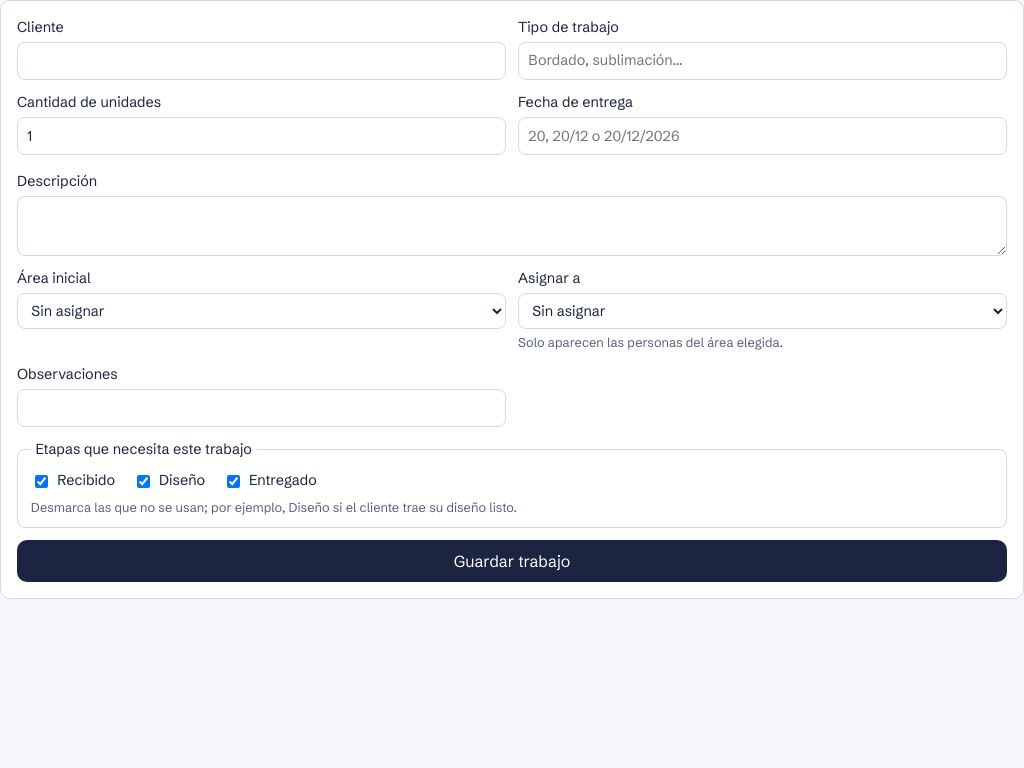
it: NuevoTrabajo › rechaza una fecha de entrega no válida sin llamar al servidor
The image size is (1024, 768).
Type "Colegio" into the field labelled "Cliente" at point(262, 61), box [17, 42, 506, 80]
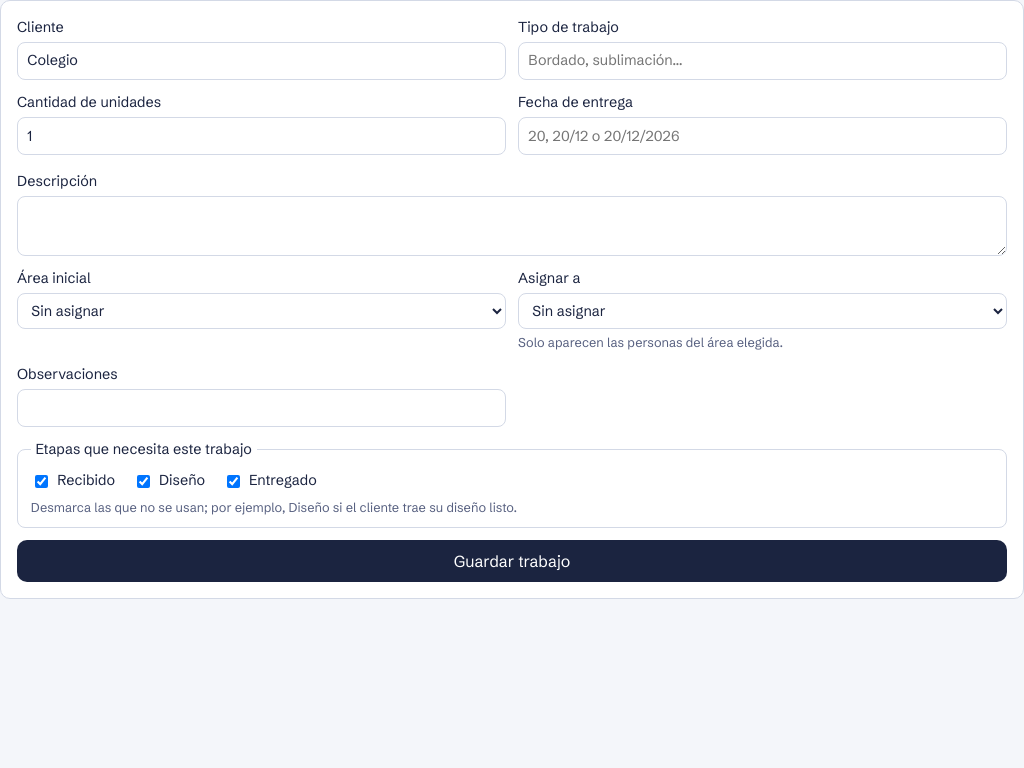
Type "Bordado" into the field labelled "Tipo de trabajo" at point(762, 61), box [518, 42, 1007, 80]
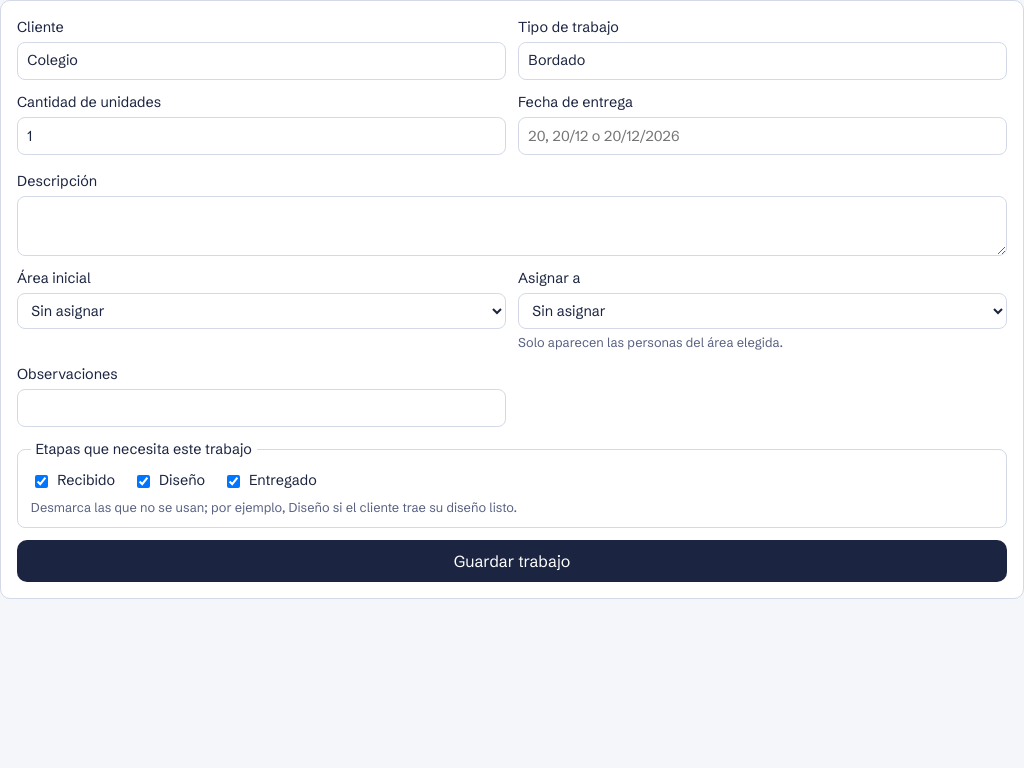
Type "60 buzos" into the text box labelled "Descripción" at point(512, 226), box [17, 196, 1007, 256]
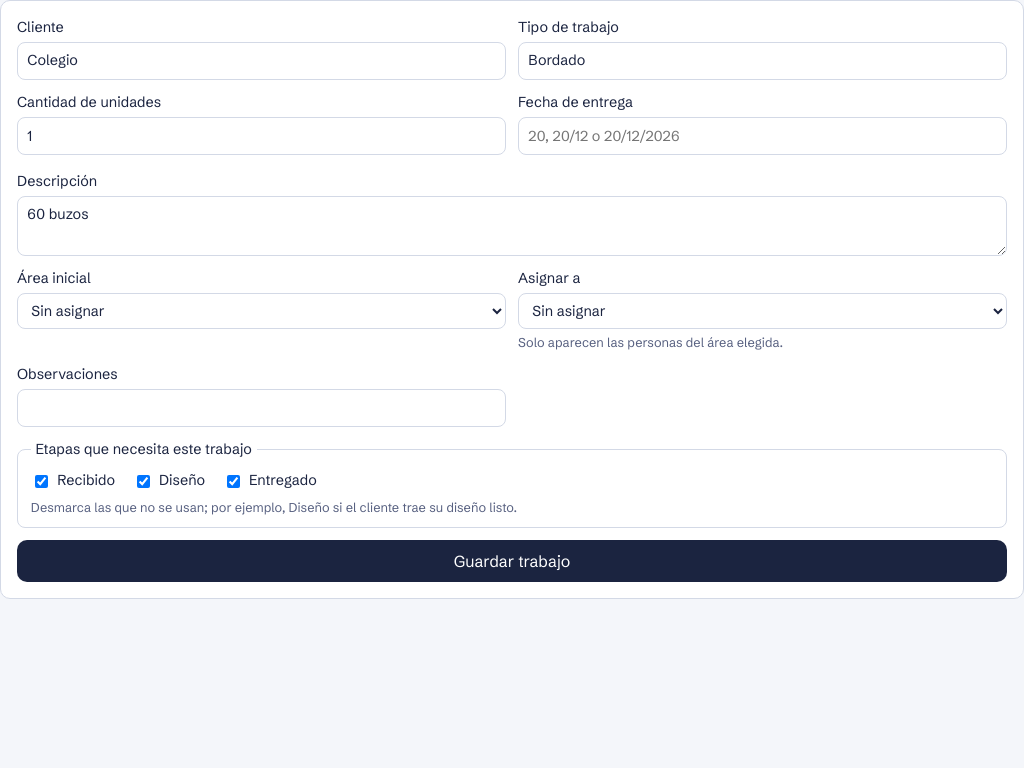
Type "99/99" into the field labelled "Fecha de entrega" at point(762, 136), box [518, 117, 1007, 155]
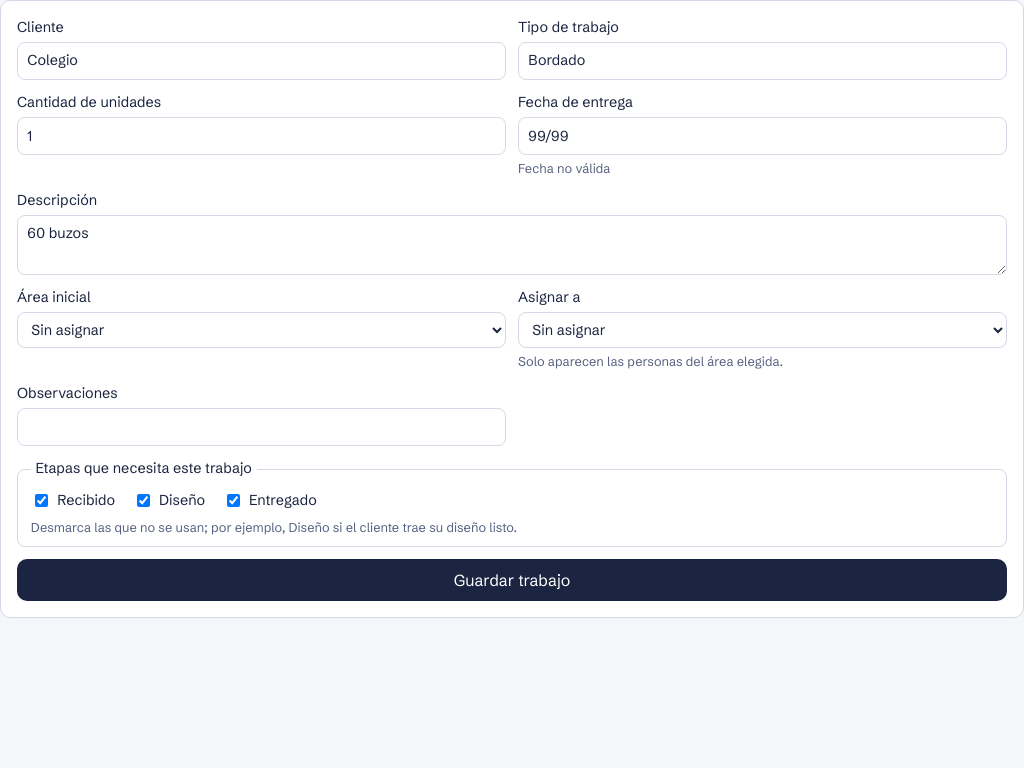
Click the button "Guardar trabajo" at point(512, 580), box [17, 559, 1007, 601]
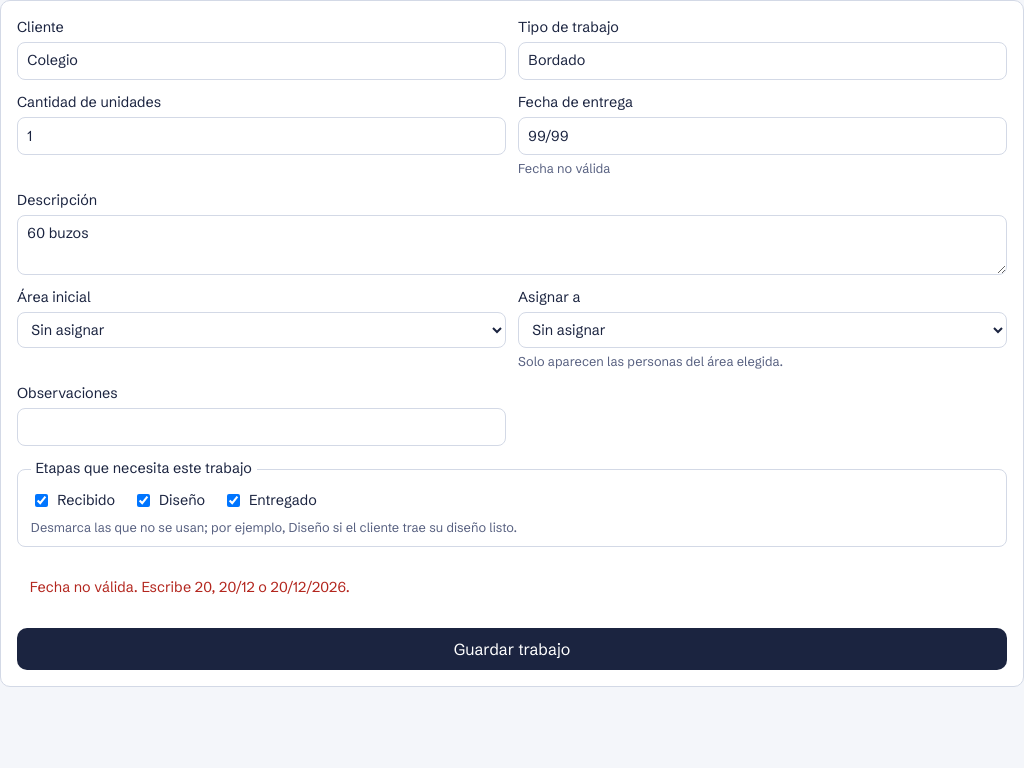
Expected: the message shows "Fecha no válida", [30, 578, 350, 596]
